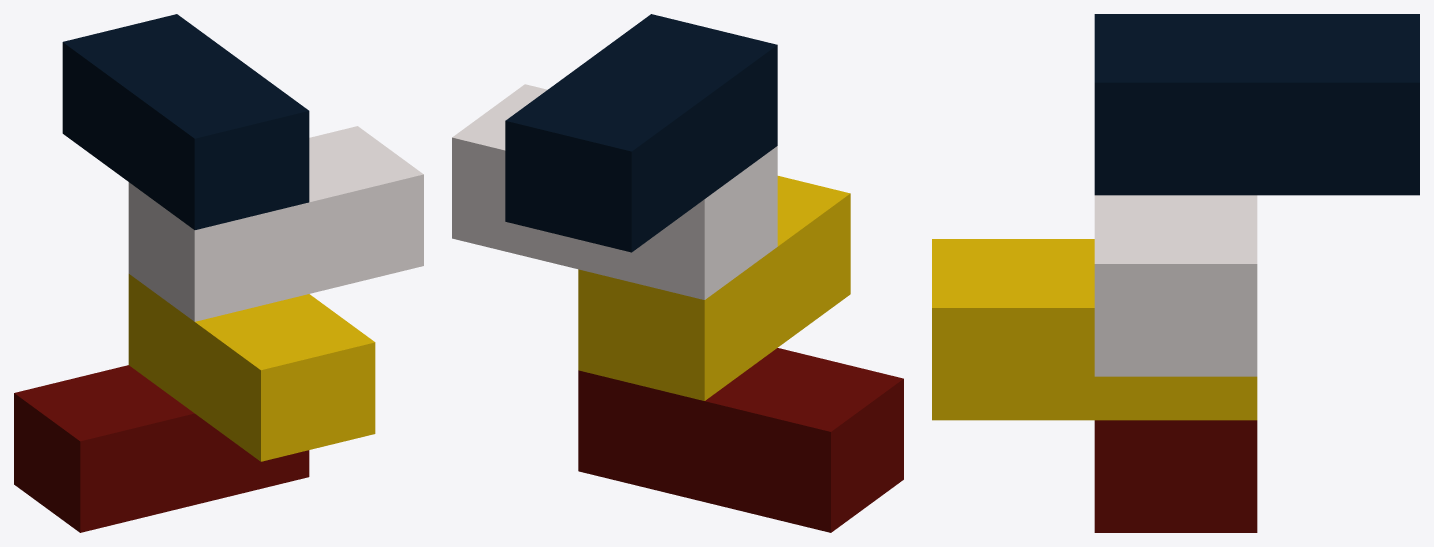
File: DimensionAnchor.glb
3 renders of one model, left to right at view 1: azimuth 30°, elevation 25°; view 2: azimuth 150°, elevation 25°; view 3: azimuth 270°, elevation 25°, orthographic. The views are drawn at different scales.
Parts seen in each view (by area): view 1: 1.Blue, 2.White, 3.Yellow, 4.Red; view 2: 1.Blue, 4.Red, 3.Yellow, 2.White; view 3: 1.Blue, 3.Yellow, 2.White, 4.Red.
Part boxes in pixels (x1,y1,x2,y2): 1.Blue: [62, 14, 309, 229]; 2.White: [128, 126, 423, 321]; 3.Yellow: [128, 274, 375, 461]; 4.Red: [14, 365, 309, 532]; 1.Blue: [505, 14, 777, 252]; 4.Red: [578, 348, 903, 532]; 3.Yellow: [578, 176, 850, 400]; 2.White: [452, 84, 777, 299]; 1.Blue: [1094, 14, 1419, 195]; 3.Yellow: [932, 239, 1257, 420]; 2.White: [1094, 195, 1257, 376]; 4.Red: [1094, 420, 1257, 532].
Size of the model in its own units: 4.85 by 4.94 by 4.85.
